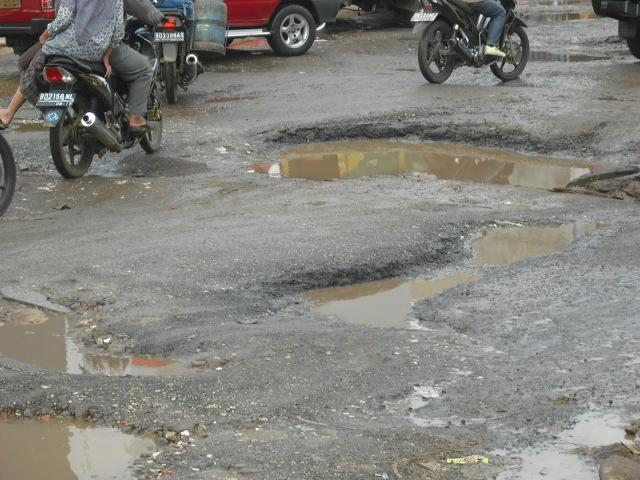Pothole: (216, 99, 640, 323), (0, 246, 224, 388), (0, 373, 181, 480), (549, 416, 640, 479)
